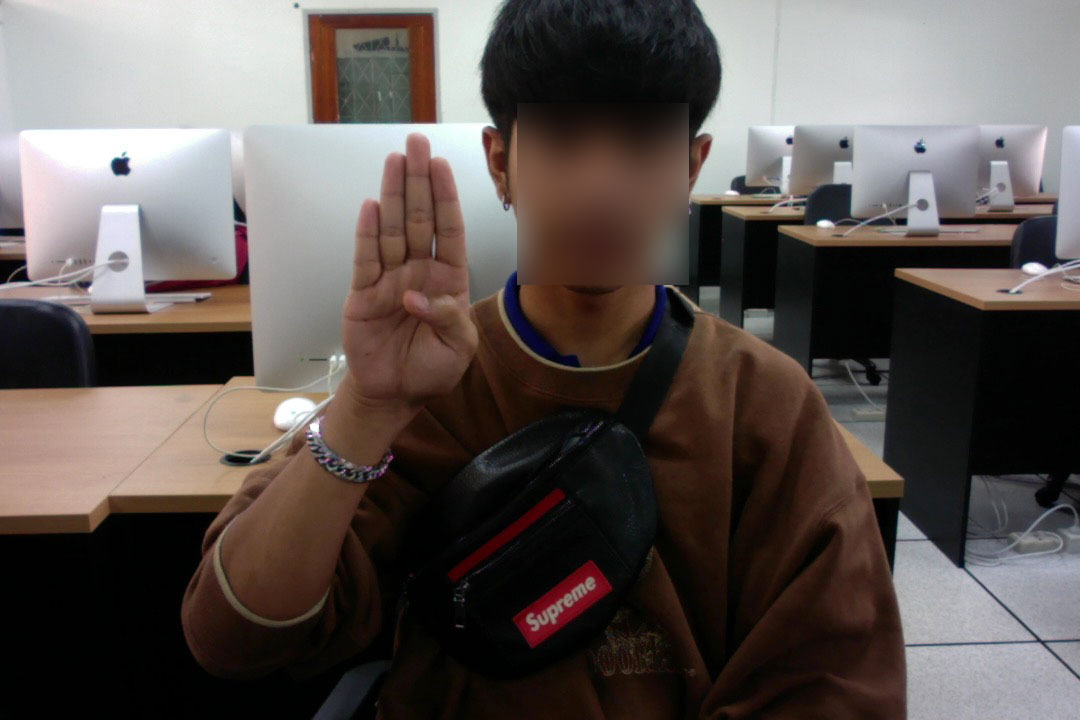bor: (335, 126, 484, 408)
